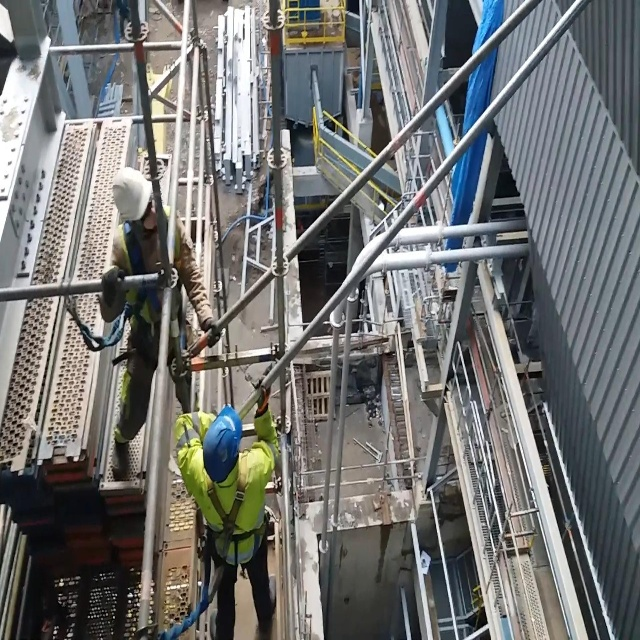Arnes_seguridad: (115, 213, 187, 371), (196, 454, 273, 587)
